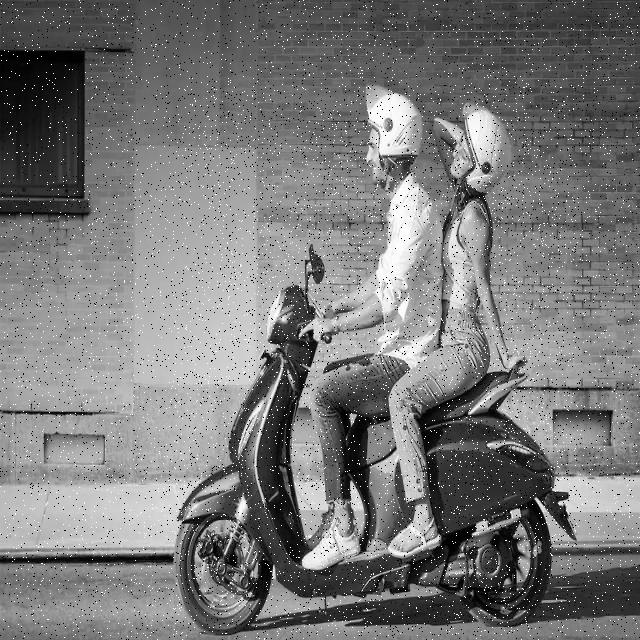Motorbike: (173, 85, 577, 635)
